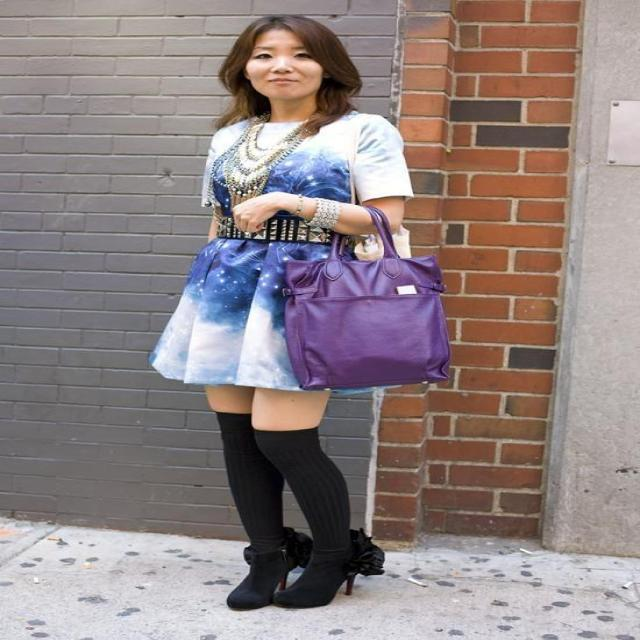dress: (146, 112, 417, 395)
